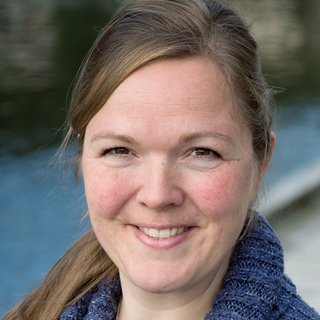eye: (176, 142, 230, 166), (98, 142, 140, 165)
